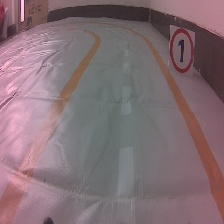limit: (168, 22, 197, 78)
